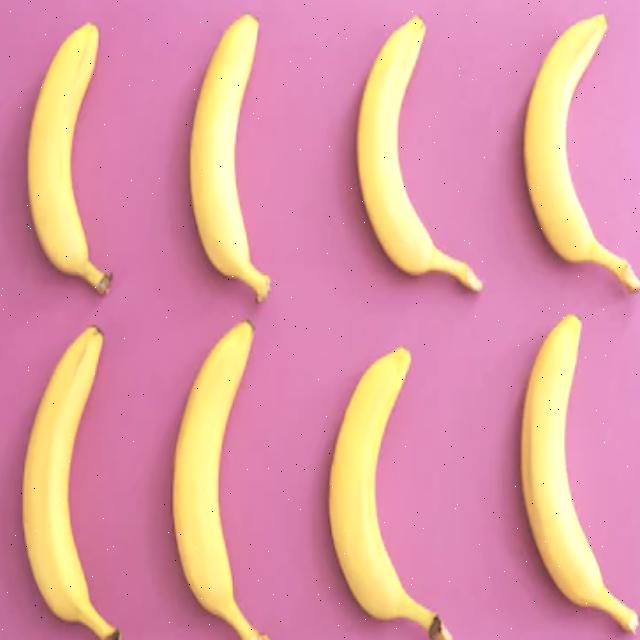god quality banana: (522, 316, 638, 633), (330, 349, 452, 640), (357, 16, 482, 291), (525, 14, 640, 291), (21, 327, 117, 640), (172, 321, 265, 639), (189, 14, 270, 300), (27, 23, 110, 292)
